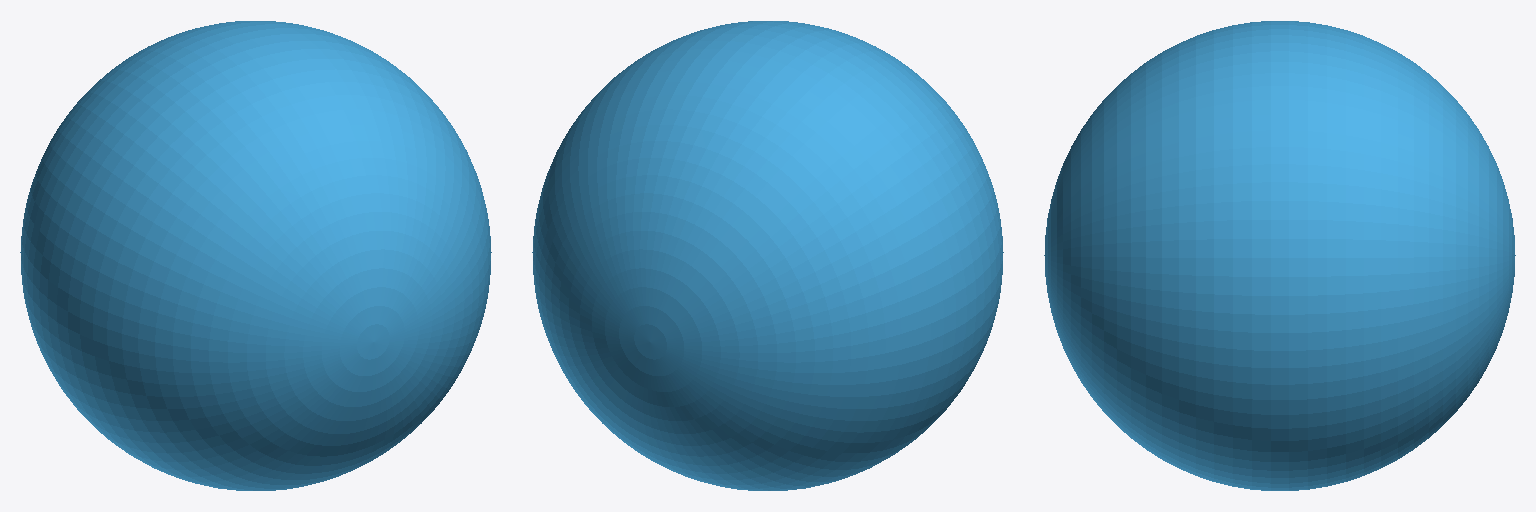
robot.urdf — generated_robot:
<robot name="generated_robot">
    <link name="ball__r9_base" />
    <link name="ball__r9">
        <visual name="door_frame-6">
            <origin xyz="0 0 0 " />
            <geometry>
                <mesh filename="ball__r9.obj" />
            </geometry>
        </visual>
        <collision>
            <origin xyz="0 0 0 " />
            <geometry>
                <mesh filename="ball__r9_collision.obj" />
            </geometry>
        </collision>
    </link>    
    <joint name="joint_0" type="fixed">
        <origin xyz="0 0 0" />
        <axis xyz="0 -1 0" />
        <child link="ball__r9_base" />
        <parent link="ball__r9" />
    </joint>
</robot>

--- Facts derived from the render (not from the file) ---
Views: 3 orthographic renders of the robot side by side, from view 1: azimuth 30°, elevation 25°; view 2: azimuth 150°, elevation 25°; view 3: azimuth 270°, elevation 25°.
Model generated_robot with 2 links and 1 joints (1 fixed), rooted at ball__r9, posed every joint at zero.
Visible links, largest first — view 1: ball__r9; view 2: ball__r9; view 3: ball__r9.
Boxes of the visible links, x1,y1,x2,y2 form: ball__r9: (20,21,491,490); ball__r9: (532,21,1003,490); ball__r9: (1044,21,1515,490).
Size in the robot's own frame: 89.91 by 90 by 89.89 metres.
1 mesh visuals loaded from 1 distinct referenced files (1 OBJ).
